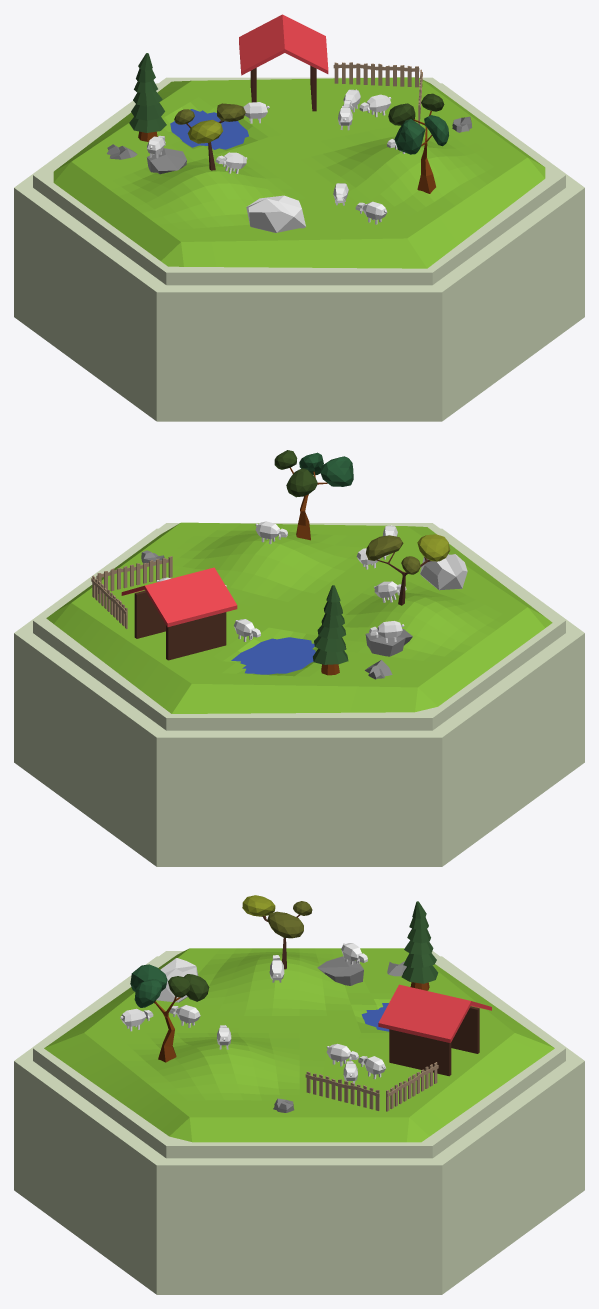
File: fbx_pasture.fbx
3 views of the same model, one above another, from view 1: azimuth 30°, elevation 25°; view 2: azimuth 150°, elevation 25°; view 3: azimuth 270°, elevation 25° (orthographic).
Parts seen in each view (by area): view 1: Pasture, Sheeps, Stable.002, Sheep, Tree.007, Tree 2.005, Rock2.004, Tree 3.003, Fence.001, Lake, Stones; view 2: Pasture, Sheeps, Stable.002, Tree.007, Lake, Sheep, Stable.001, Fence.001, Tree 2.005, Tree 3.003, Stones, Rock2.004 (+1 smaller); view 3: Pasture, Sheeps, Stable.002, Sheep, Tree.007, Fence.001, Stable, Tree 2.005, Tree 3.003, Stones, Stable.001, Rock2.004.
Part boxes in pixels (left/top/right/bottom): Pasture: left=14, top=77, right=584, bottom=421; Sheeps: left=53, top=77, right=545, bottom=268; Stable.002: left=239, top=14, right=328, bottom=75; Sheep: left=147, top=89, right=405, bottom=224; Tree.007: left=388, top=93, right=448, bottom=193; Tree 2.005: left=129, top=53, right=166, bottom=141; Rock2.004: left=246, top=195, right=305, bottom=232; Tree 3.003: left=174, top=103, right=245, bottom=170; Fence.001: left=333, top=62, right=422, bottom=124; Lake: left=170, top=109, right=248, bottom=149; Stones: left=107, top=116, right=472, bottom=174; Pasture: left=14, top=523, right=584, bottom=866; Sheeps: left=46, top=522, right=552, bottom=713; Stable.002: left=121, top=567, right=237, bottom=627; Tree.007: left=274, top=450, right=353, bottom=540; Lake: left=231, top=637, right=315, bottom=674; Sheep: left=156, top=521, right=406, bottom=642; Stable.001: left=166, top=612, right=226, bottom=660; Fence.001: left=91, top=556, right=172, bottom=629; Tree 2.005: left=313, top=585, right=348, bottom=675; Tree 3.003: left=366, top=534, right=450, bottom=605; Stones: left=141, top=550, right=412, bottom=679; Rock2.004: left=420, top=554, right=467, bottom=590; Pasture: left=14, top=951, right=584, bottom=1294; Sheeps: left=44, top=948, right=554, bottom=1142; Stable.002: left=378, top=984, right=491, bottom=1042; Sheep: left=120, top=943, right=385, bottom=1085; Tree.007: left=130, top=964, right=209, bottom=1062; Fence.001: left=305, top=1062, right=438, bottom=1111; Stable: left=389, top=1029, right=451, bottom=1076; Tree 2.005: left=401, top=901, right=438, bottom=990; Tree 3.003: left=242, top=895, right=312, bottom=969; Stones: left=273, top=956, right=406, bottom=1112; Stable.001: left=451, top=1006, right=479, bottom=1053; Rock2.004: left=156, top=958, right=198, bottom=1002.
Bounding box in the file's own units: 173 × 96.03 × 200.
